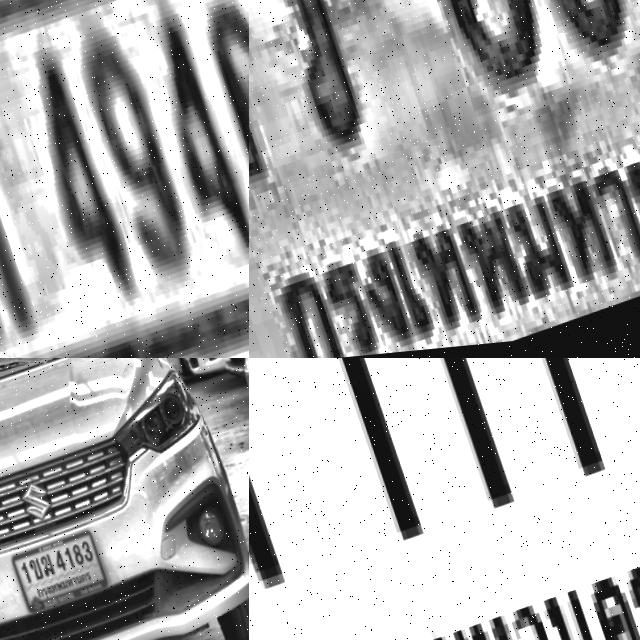license-plate: (249, 0, 640, 358), (249, 358, 640, 640), (0, 0, 249, 358), (0, 528, 101, 624), (233, 378, 249, 410), (170, 358, 188, 372)
